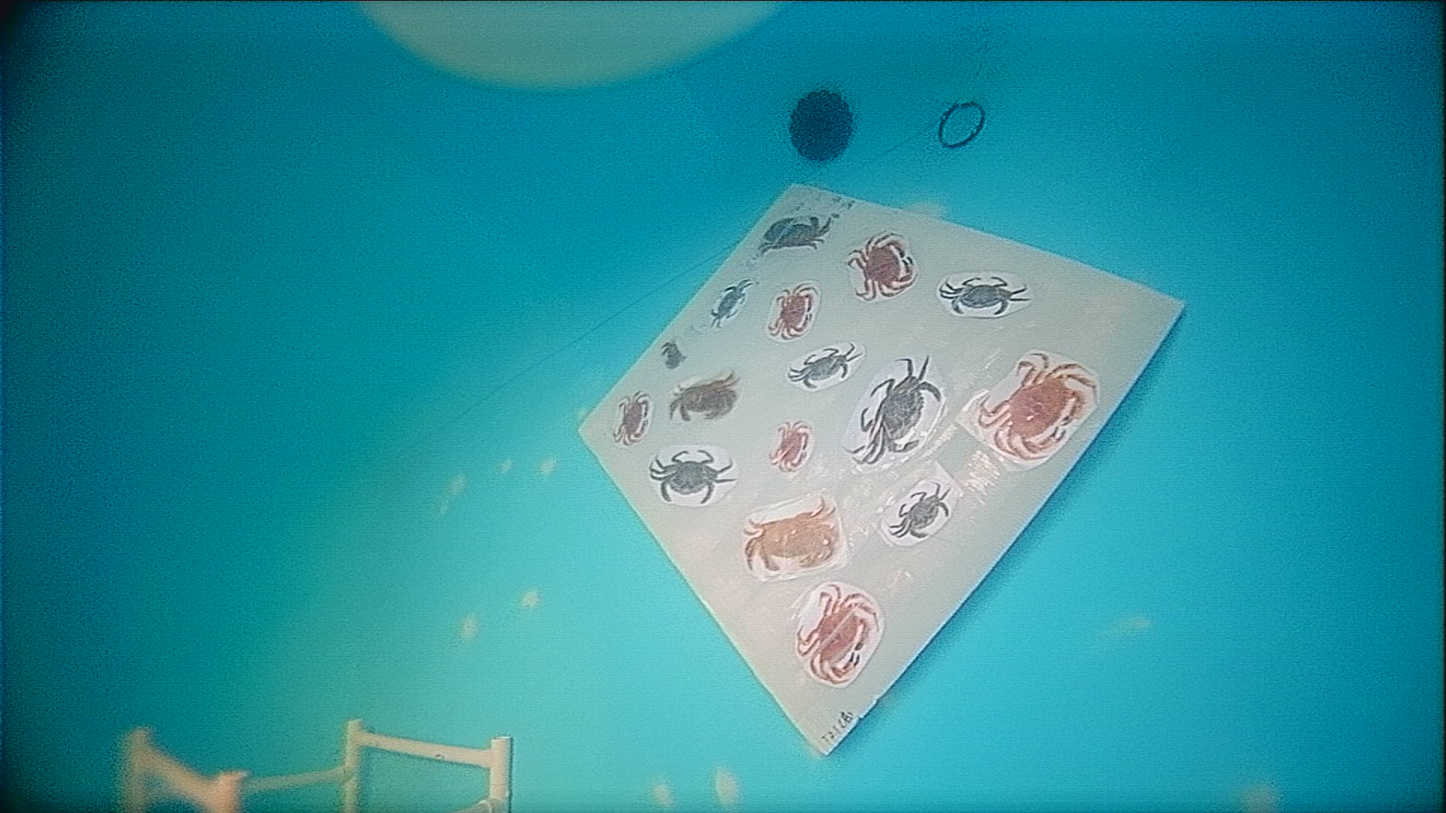GreenCrab: (848, 358, 941, 463), (650, 449, 734, 503), (939, 276, 1030, 315), (788, 343, 861, 388), (889, 486, 948, 538)
